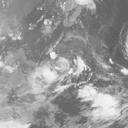cyclone: (40, 52, 83, 88)
